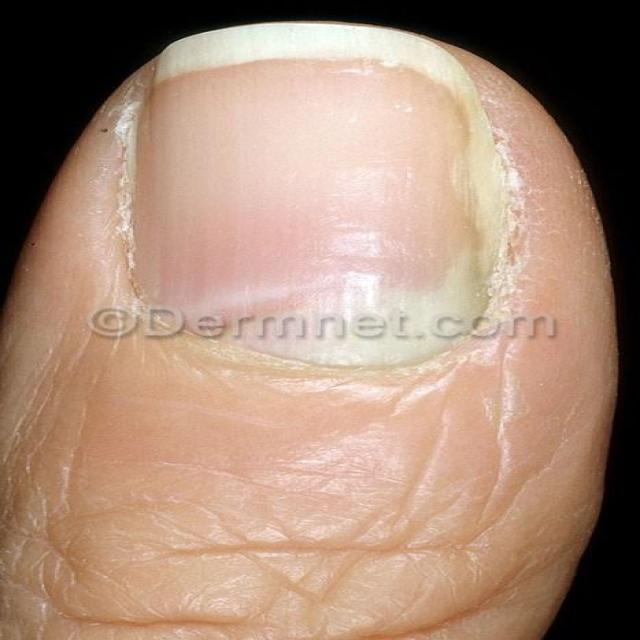Nail: (123, 23, 507, 368)
